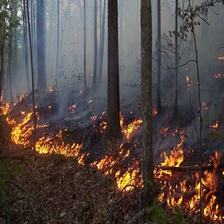fire: (97, 142, 224, 223), (1, 97, 90, 164), (158, 116, 193, 143), (119, 107, 147, 140), (92, 110, 109, 136), (204, 116, 222, 140), (181, 65, 194, 88), (209, 66, 224, 81)
